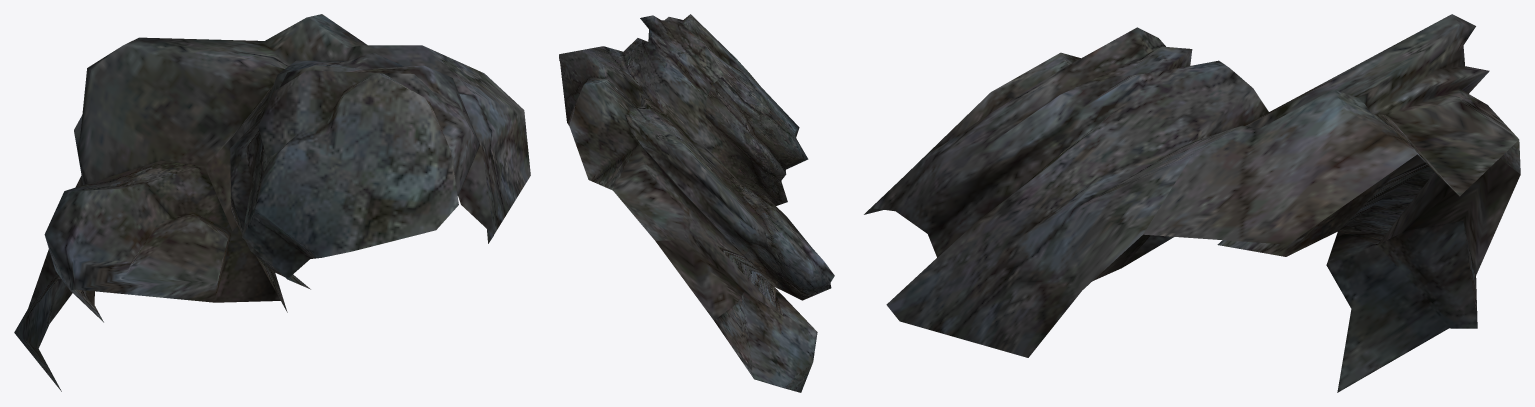
The model's file is S_Rock_Yellow034_H31.FBX.
The picture shows the model from 3 angles, left to right: view 1: azimuth 30°, elevation 25°; view 2: azimuth 150°, elevation 25°; view 3: azimuth 270°, elevation 25°; orthographic projection. The views are drawn at different scales.
Visible parts, largest first — view 1: S_Rock_Yellow034_H31; view 2: S_Rock_Yellow034_H31; view 3: S_Rock_Yellow034_H31.
Boxes of the visible parts, x1,y1,x2,y2 form: S_Rock_Yellow034_H31: (14,14,530,391); S_Rock_Yellow034_H31: (559,14,834,392); S_Rock_Yellow034_H31: (864,14,1520,392).
Size of the model in its own units: 920 by 863 by 734.
Materials: 1 (1 with a texture image).
